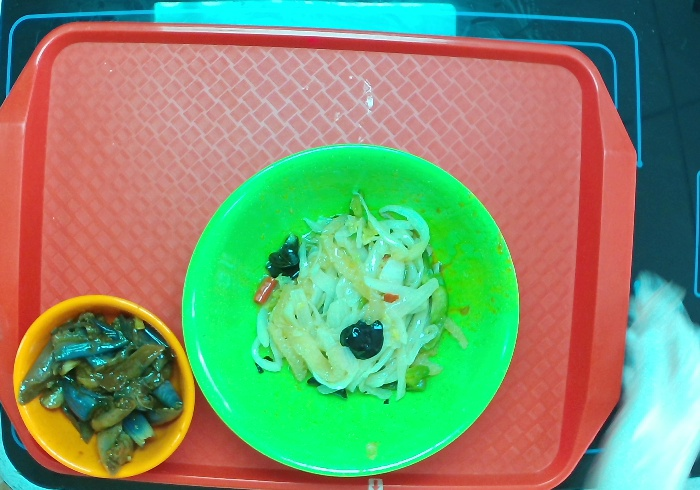YKMZ-Ju_Se_Yuan_Wan: (6, 289, 200, 482)
YKMZ-Lv_Se_Tang_Wan: (175, 138, 524, 480)
